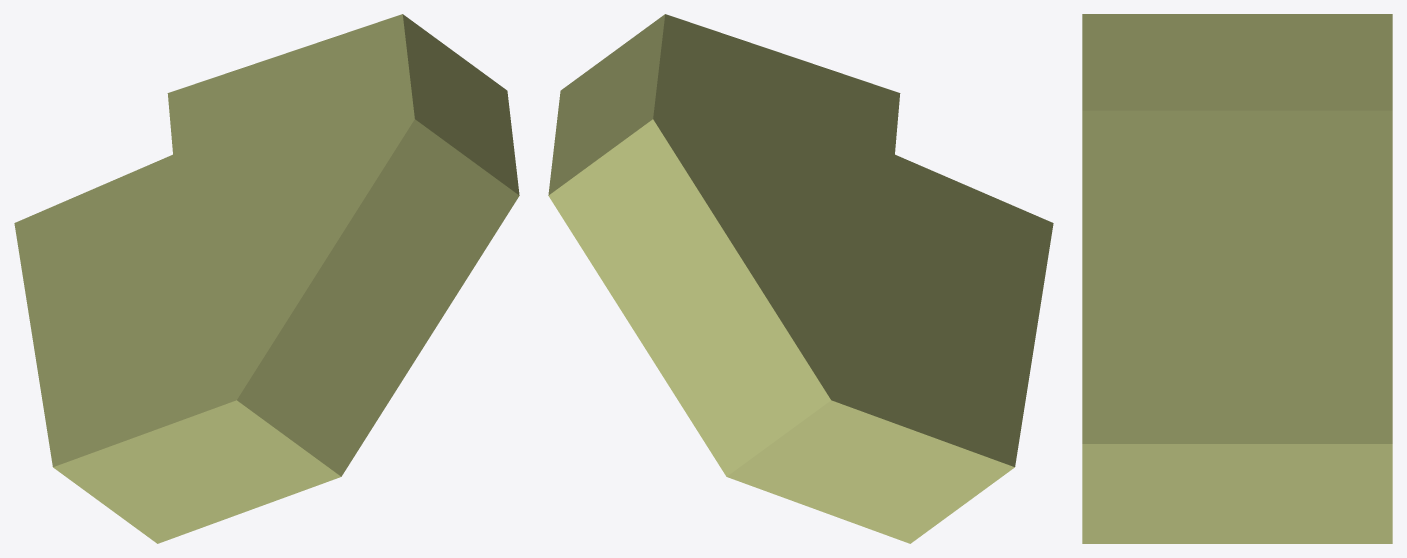
3 renders of one model, left to right at view 1: azimuth 30°, elevation 25°; view 2: azimuth 150°, elevation 25°; view 3: azimuth 270°, elevation 25°, orthographic. The views are drawn at different scales.
Visible parts, largest first — view 1: 0_2_0_1_2_2_2_2_0_0; view 2: 0_2_0_1_2_2_2_2_0_0; view 3: 0_2_0_1_2_2_2_2_0_0.
Boxes of the visible parts, <box> form: 0_2_0_1_2_2_2_2_0_0: <box>14,14,519,543</box>; 0_2_0_1_2_2_2_2_0_0: <box>548,14,1053,543</box>; 0_2_0_1_2_2_2_2_0_0: <box>1082,14,1392,543</box>.
Bounding box in the file's own units: 19.88 × 17.45 × 9.
